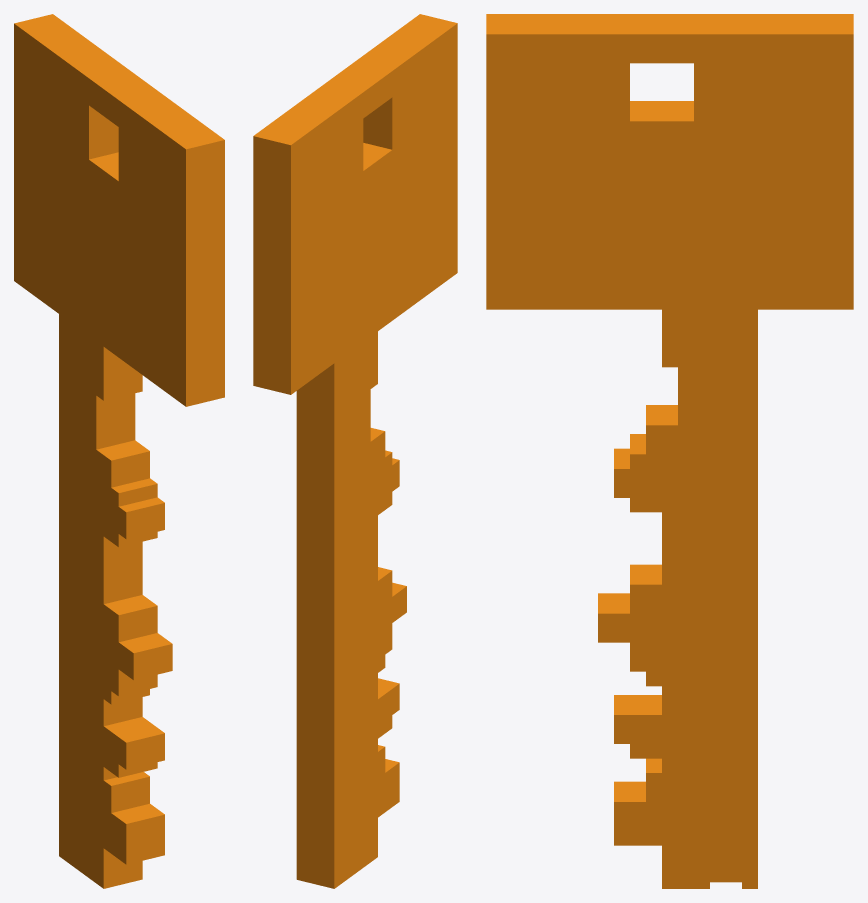
Rendered from key.glb.
The picture shows the model from 3 angles, left to right: view 1: azimuth 30°, elevation 25°; view 2: azimuth 150°, elevation 25°; view 3: azimuth 270°, elevation 25°; orthographic projection. The views are drawn at different scales.
Parts seen in each view (by area): view 1: key; view 2: key; view 3: key.
Boxes of the visible parts, box(x1,y1,x2,y2) form: key: box(14, 14, 224, 888); key: box(253, 14, 457, 888); key: box(486, 14, 853, 888).
Size of the model in its own units: 0.3 by 5.9 by 2.3.
1 material, 1 textured.
